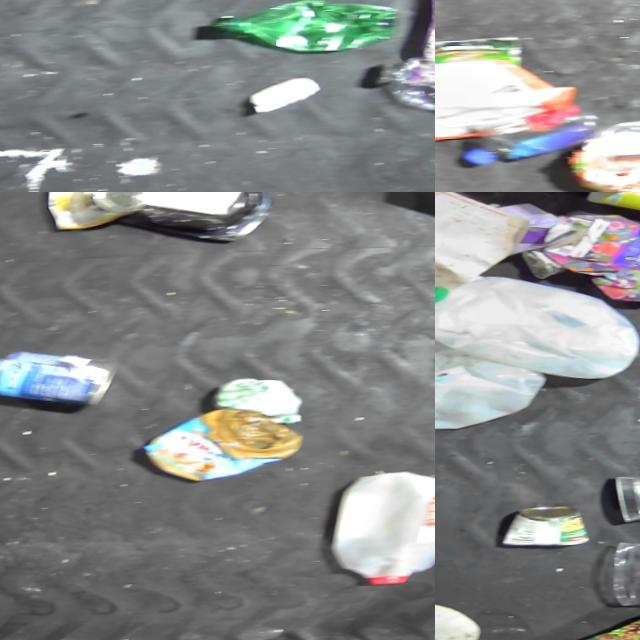can: (0, 348, 125, 411), (499, 505, 596, 551), (42, 192, 147, 233), (610, 473, 640, 525)
milk_jug: (435, 270, 640, 387), (435, 322, 553, 435), (329, 470, 435, 590)
plastic_bottle: (462, 115, 601, 169), (367, 57, 435, 122)
